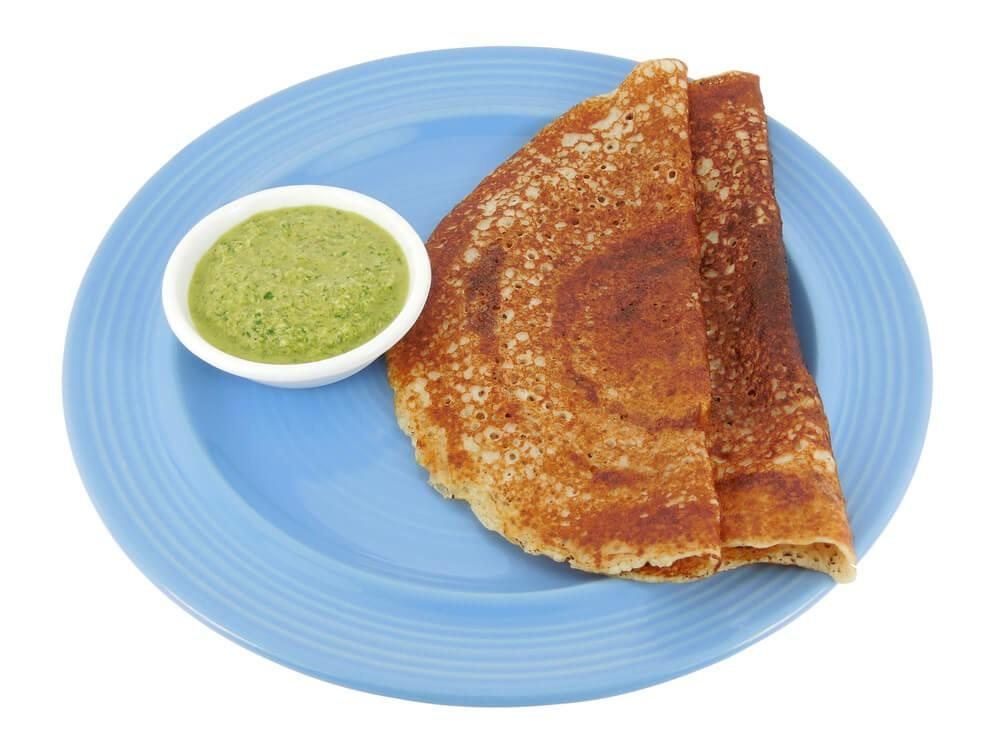Dosa: (389, 60, 722, 580), (689, 71, 856, 585)
GreenChutney: (190, 205, 409, 367)
